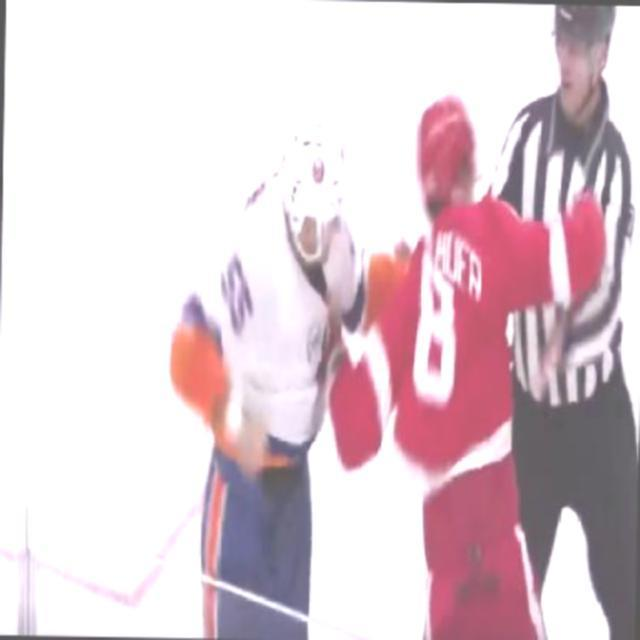fight: (161, 0, 426, 638)
